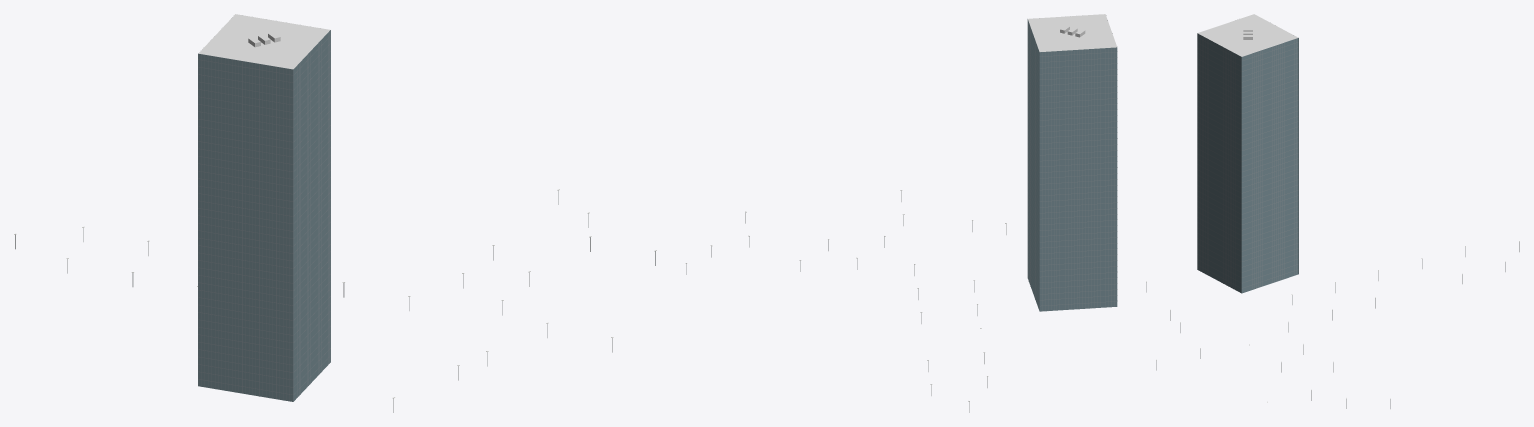
3 views of the same model, side by side, from view 1: azimuth 30°, elevation 25°; view 2: azimuth 150°, elevation 25°; view 3: azimuth 270°, elevation 25° (orthographic). The views are drawn at different scales.
Visible parts, largest first — view 1: 2_0_v02 中性蓝灰幕墙, 2_0_v02 铝合金幕墙框, 2_0_v02 深灰屋面; view 2: 2_0_v02 中性蓝灰幕墙, 2_0_v02 铝合金幕墙框, 2_0_v02 深灰屋面; view 3: 2_0_v02 中性蓝灰幕墙, 2_0_v02 铝合金幕墙框, 2_0_v02 深灰屋面.
Part boxes in pixels (box(x1,y1,x2,y2)): 2_0_v02 中性蓝灰幕墙: box(198, 30, 330, 401); 2_0_v02 铝合金幕墙框: box(198, 30, 330, 401); 2_0_v02 深灰屋面: box(198, 14, 329, 69); 2_0_v02 中性蓝灰幕墙: box(1027, 19, 1117, 311); 2_0_v02 铝合金幕墙框: box(1027, 15, 1117, 311); 2_0_v02 深灰屋面: box(1028, 14, 1116, 51); 2_0_v02 中性蓝灰幕墙: box(1197, 33, 1298, 293); 2_0_v02 铝合金幕墙框: box(1197, 34, 1298, 289); 2_0_v02 深灰屋面: box(1197, 14, 1298, 56).
Bounding box in the file's own units: 237 × 163 × 231.
